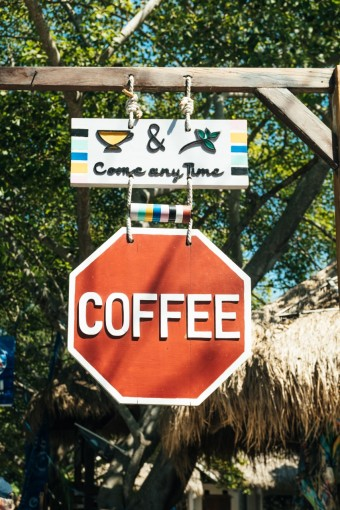SS: (62, 232, 247, 405)
